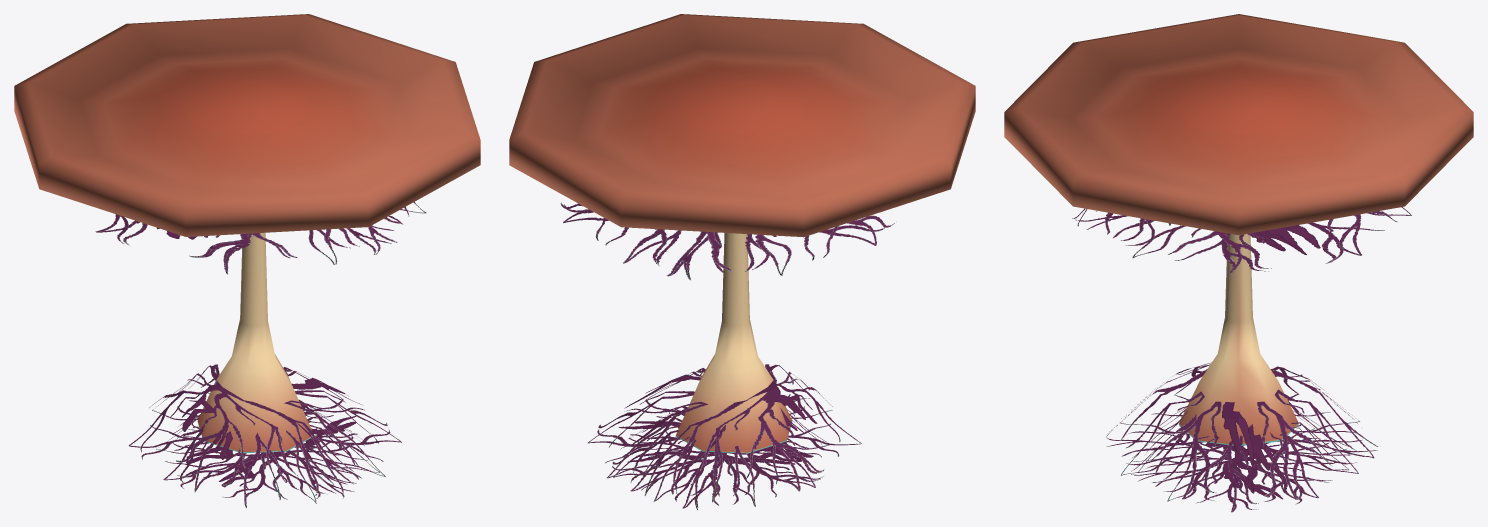
Rendered from MushroomFlatTop1 (1).fbx.
The picture shows the model from 3 angles, left to right: view 1: azimuth 30°, elevation 25°; view 2: azimuth 150°, elevation 25°; view 3: azimuth 270°, elevation 25°; orthographic projection. The views are drawn at different scales.
Parts seen in each view (by area): view 1: Circle.002; view 2: Circle.002; view 3: Circle.002.
Boxes of the visible parts, x1=… form: Circle.002: x1=14, y1=14, x2=480, y2=508; Circle.002: x1=509, y1=14, x2=975, y2=509; Circle.002: x1=1004, y1=14, x2=1473, y2=512.
Bounding box in the file's own units: 1361 × 1146 × 1374.
